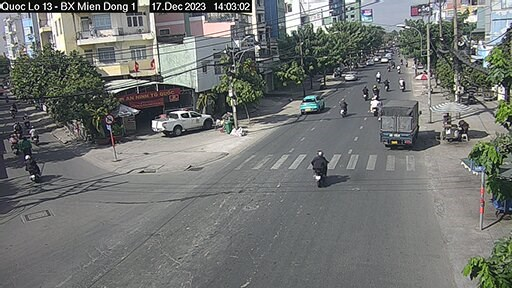car: (150, 110, 217, 138), (297, 92, 326, 114), (344, 70, 358, 84)
motorbike: (312, 149, 331, 188), (335, 96, 352, 119), (368, 95, 381, 118), (382, 79, 393, 92), (361, 84, 370, 99), (372, 84, 381, 99), (398, 78, 407, 93)
truck: (380, 96, 421, 153)
